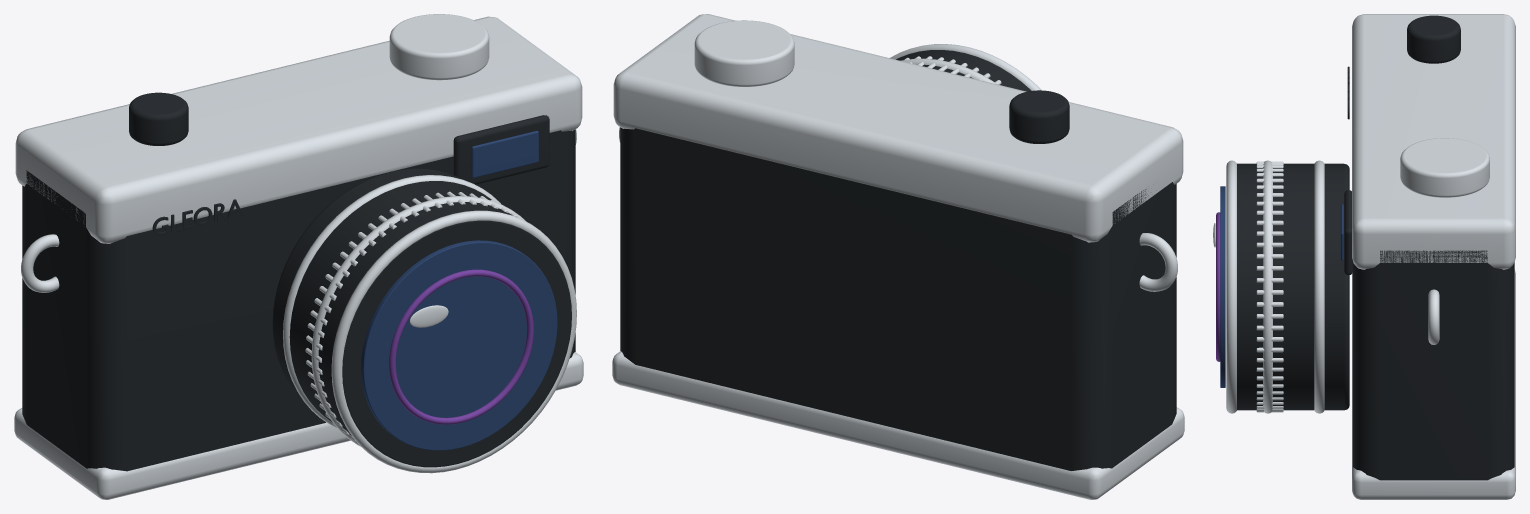
The model's file is photo.glb.
3 views of the same model, side by side, from view 1: azimuth 30°, elevation 25°; view 2: azimuth 150°, elevation 25°; view 3: azimuth 270°, elevation 25° (orthographic). The views are drawn at different scales.
Visible parts, largest first — view 1: Camera body, Top plate, Front glass, Lens barrel, Bottom plate, Lens machined ring.002, Mode wheel, Glass inner reflection, Viewfinder, Shutter button, Lens machined ring, Lens machined ring.001 (+4 smaller); view 2: Camera body, Top plate, Bottom plate, Mode wheel, Shutter button, Lens barrel, Strap lug, Lens machined ring.002; view 3: Camera body, Top plate, Lens barrel, Mode wheel, Bottom plate, Lens machined ring, Lens machined ring.002, Lens machined ring.001, Shutter button, Front glass, Glass inner reflection, Viewfinder (+1 smaller).
Boxes of the visible parts, box(x1,y1,x2,y2) form: Camera body: box(22, 129, 575, 471); Top plate: box(15, 16, 582, 243); Front glass: box(361, 240, 557, 450); Lens barrel: box(272, 168, 571, 467); Bottom plate: box(14, 352, 583, 499); Lens machined ring.002: box(331, 210, 576, 473); Mode wheel: box(389, 14, 489, 80); Glass inner reflection: box(389, 269, 533, 424); Viewfinder: box(453, 115, 549, 184); Shutter button: box(129, 92, 188, 145); Lens machined ring: box(283, 175, 500, 428); Lens machined ring.001: box(311, 196, 526, 446); Camera body: box(620, 127, 1176, 470); Top plate: box(613, 14, 1183, 242); Bottom plate: box(612, 351, 1184, 499); Mode wheel: box(694, 20, 794, 86); Shutter button: box(1009, 90, 1069, 143); Lens barrel: box(896, 50, 1031, 91); Strap lug: box(1139, 233, 1177, 291); Lens machined ring.002: box(890, 44, 1041, 90); Camera body: box(1353, 250, 1514, 480); Top plate: box(1352, 14, 1515, 269); Lens barrel: box(1237, 163, 1349, 410); Mode wheel: box(1400, 138, 1489, 197); Bottom plate: box(1352, 269, 1515, 499); Lens machined ring: box(1314, 160, 1324, 413); Lens machined ring.002: box(1226, 160, 1236, 413); Lens machined ring.001: box(1263, 160, 1272, 413); Shutter button: box(1407, 15, 1460, 63); Front glass: box(1220, 186, 1225, 387); Glass inner reflection: box(1216, 212, 1220, 361); Viewfinder: box(1344, 190, 1352, 275).
Bounding box in the file's own units: 2.4 × 1.42 × 1.26.
